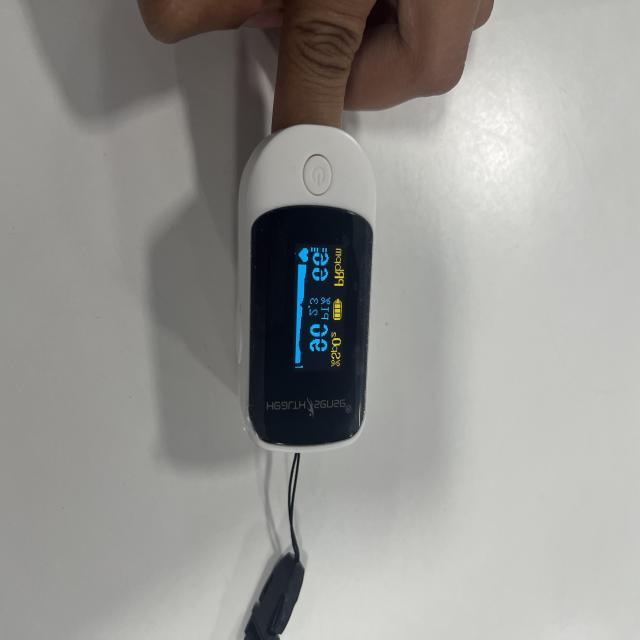spo2: (233, 125, 378, 454)
